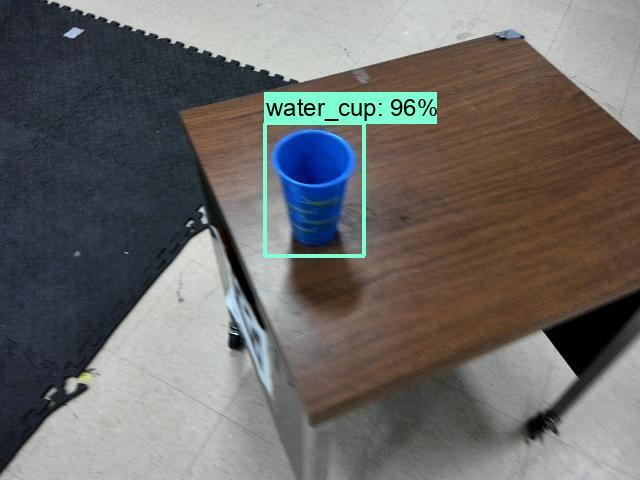water_cup: (268, 120, 363, 256)
